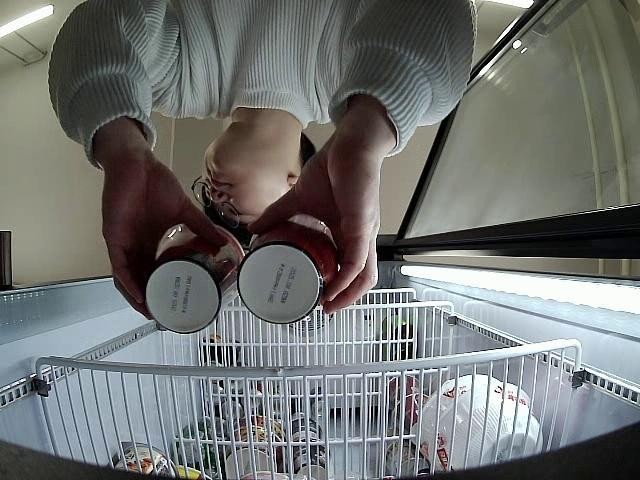02_shinRamen_S: (142, 221, 246, 335), (238, 215, 338, 326)
